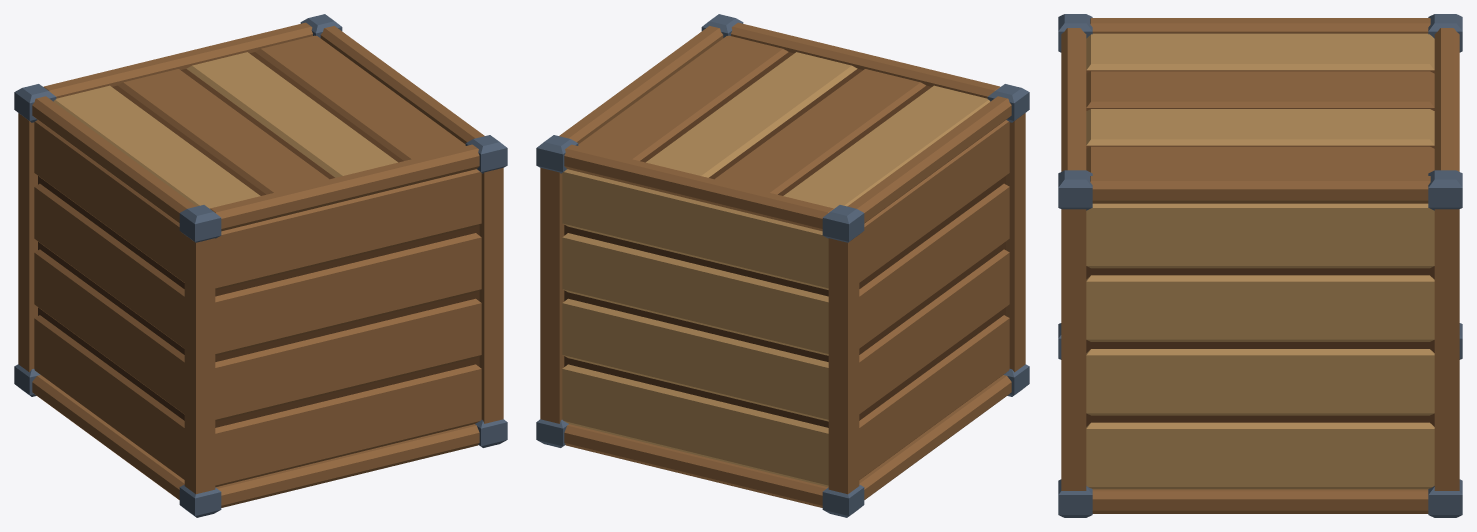
The model's file is Crate_13.glb.
3 renders of one model, left to right at view 1: azimuth 30°, elevation 25°; view 2: azimuth 150°, elevation 25°; view 3: azimuth 270°, elevation 25°, orthographic. The views are drawn at different scales.
Visible parts, largest first — view 1: Crate_13; view 2: Crate_13; view 3: Crate_13.
Part boxes in pixels (x1=…): Crate_13: x1=14, y1=14, x2=507, y2=517; Crate_13: x1=536, y1=14, x2=1029, y2=517; Crate_13: x1=1058, y1=14, x2=1462, y2=517.
Bounding box in the file's own units: 2.59 × 2.39 × 2.59.
